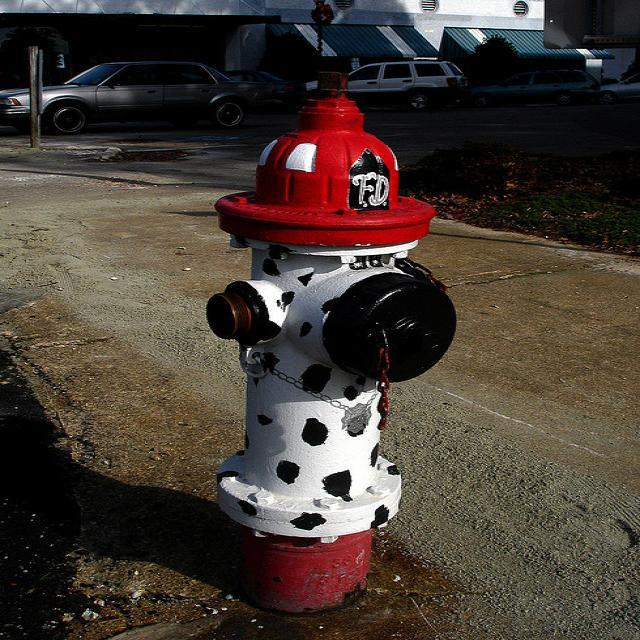fire_hydrant: (202, 93, 450, 618)
